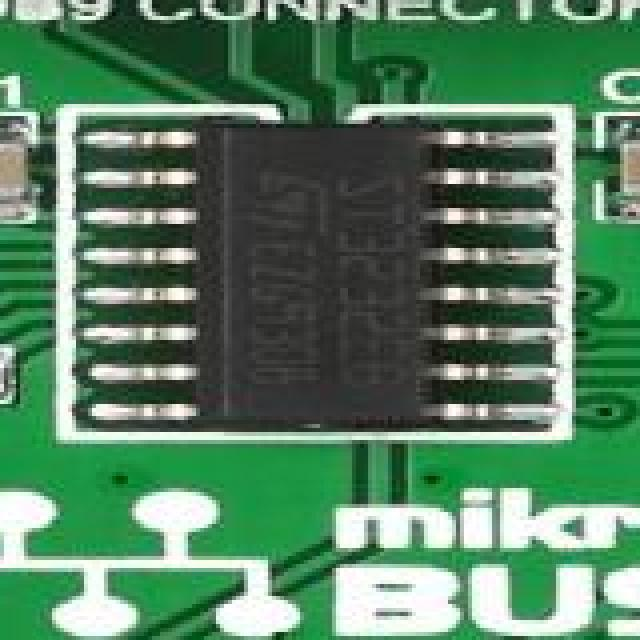IC: (92, 120, 556, 432)
capacitor: (0, 124, 40, 216), (632, 124, 640, 212), (0, 348, 8, 408)
